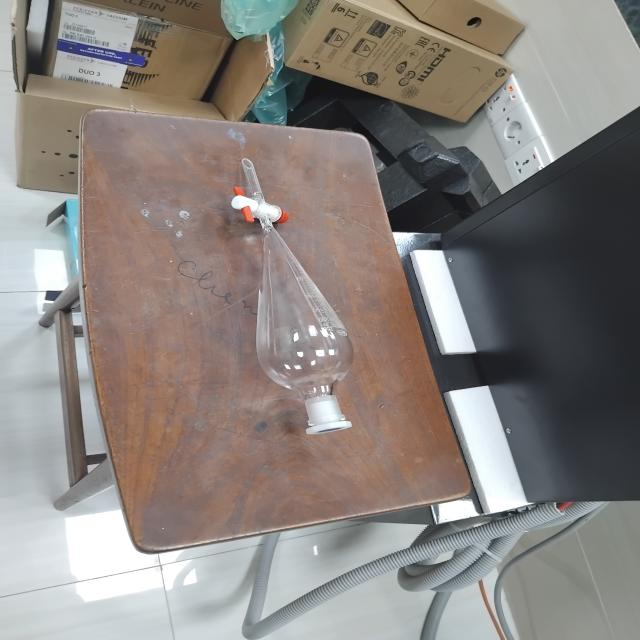Separating_Funnel: (207, 136, 407, 468)
